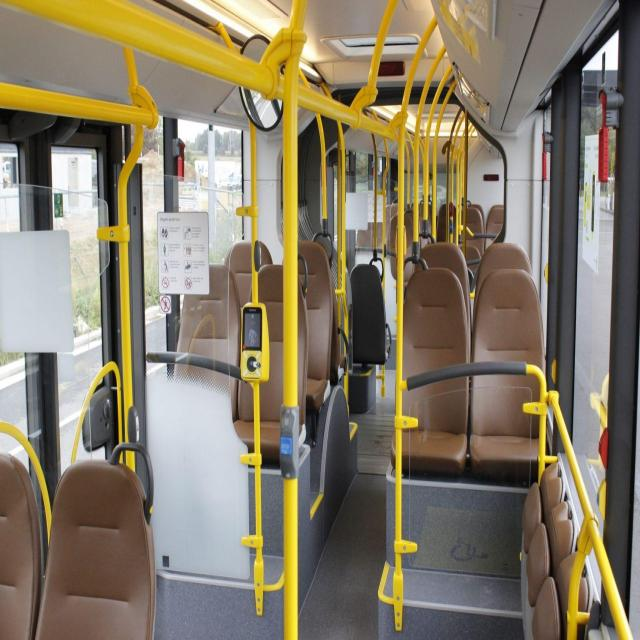empty-seat-frontal: (468, 264, 550, 483), (389, 264, 470, 480)
